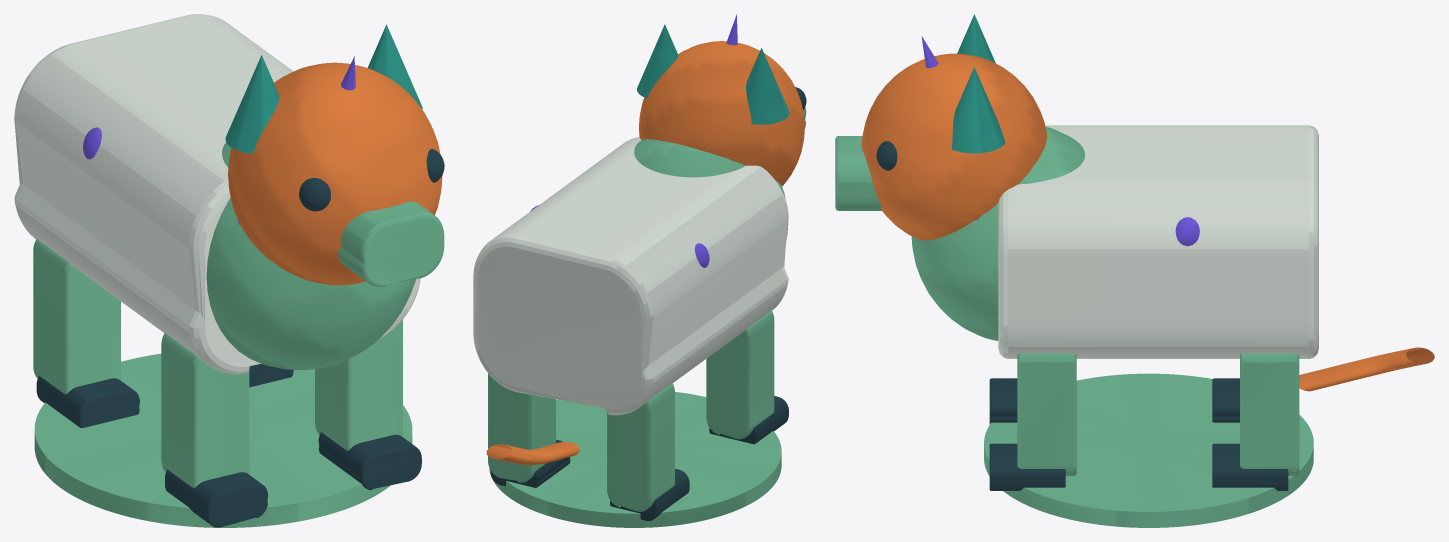
File: 0938_国宝动物图鉴_川金丝猴.glb
3 renders of one model, left to right at view 1: azimuth 30°, elevation 25°; view 2: azimuth 150°, elevation 25°; view 3: azimuth 270°, elevation 25°, orthographic. The views are drawn at different scales.
Visible parts, largest first — view 1: card_0938; view 2: card_0938; view 3: card_0938.
Boxes of the visible parts, bbox=[...] form: card_0938: bbox=[14, 14, 444, 527]; card_0938: bbox=[473, 14, 806, 527]; card_0938: bbox=[835, 14, 1434, 527].
Bounding box in the file's own units: 0.7005 × 1 × 1.28.
